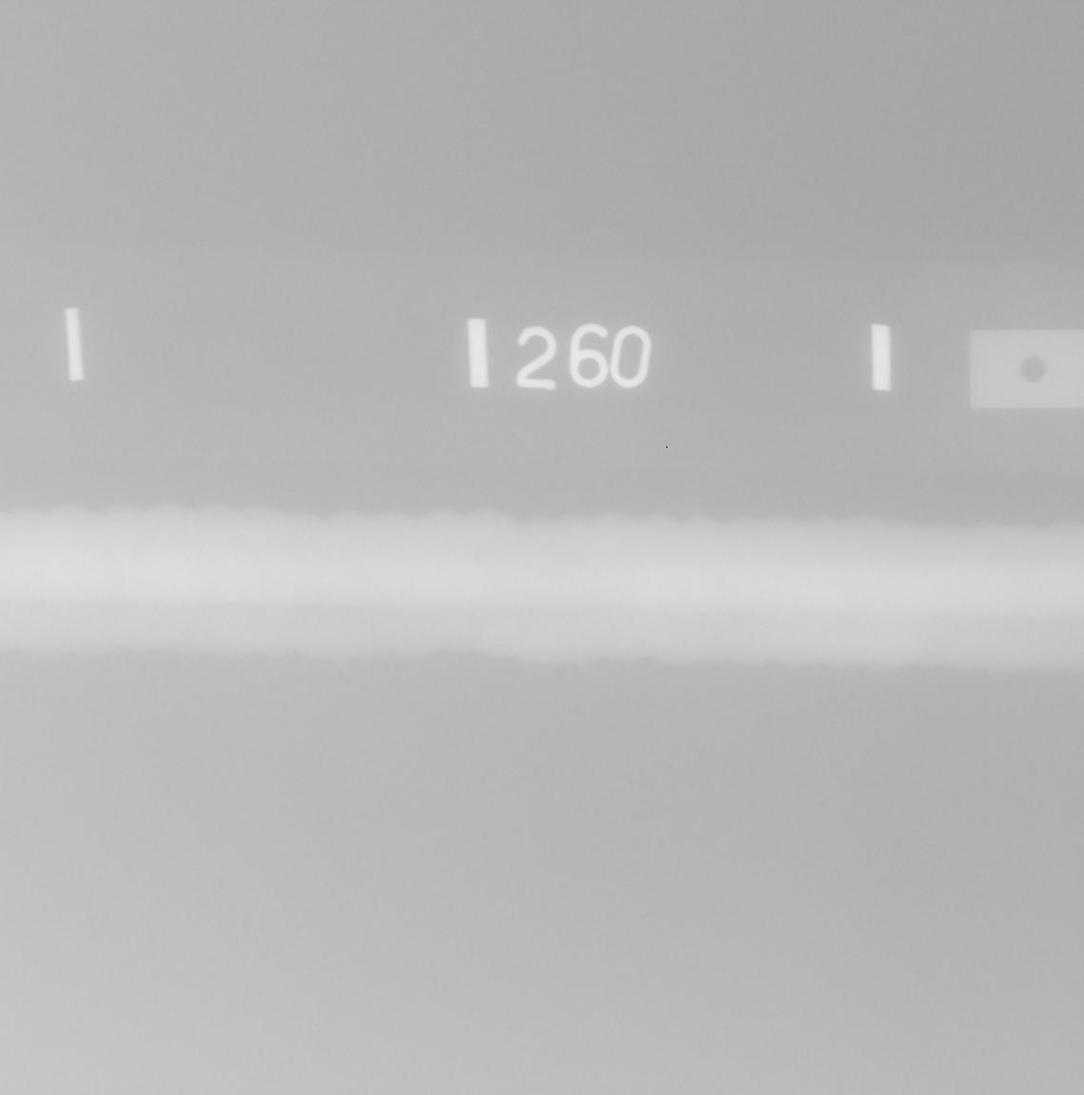Pore/Porosity: (871, 658, 875, 664), (34, 573, 39, 577)
